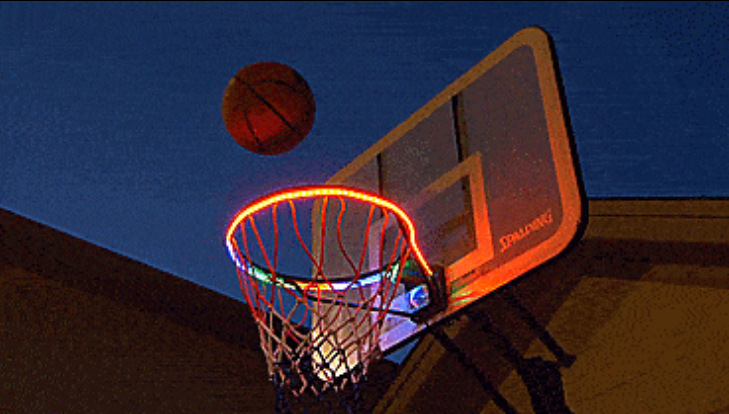ball: (220, 60, 318, 158)
